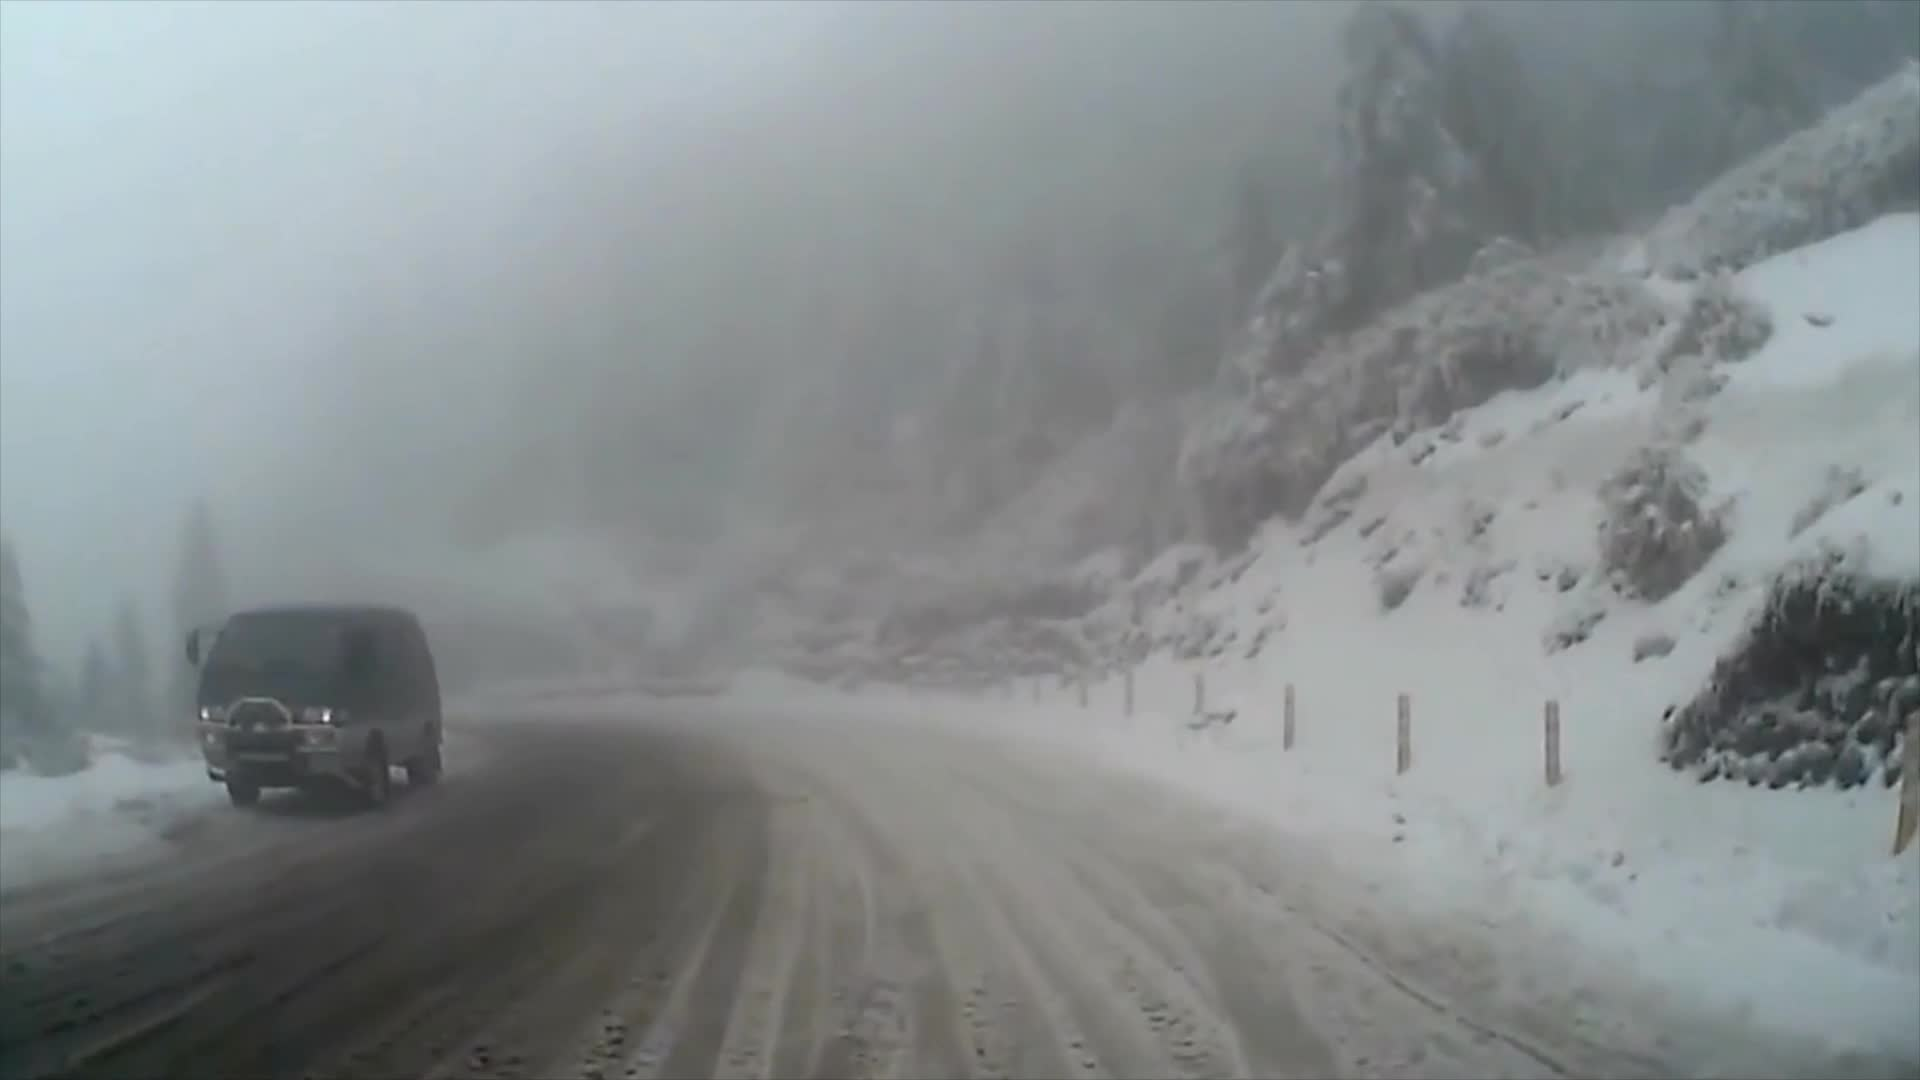vehicle: (177, 601, 439, 812)
